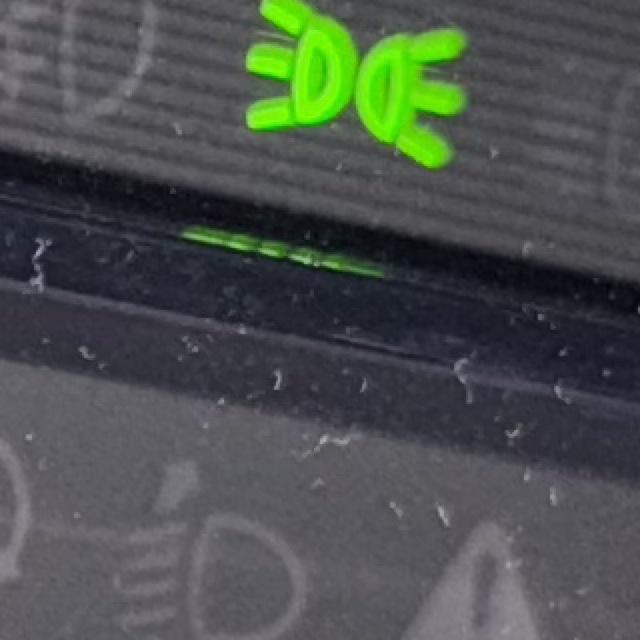Parking Light On: (244, 1, 472, 174)
